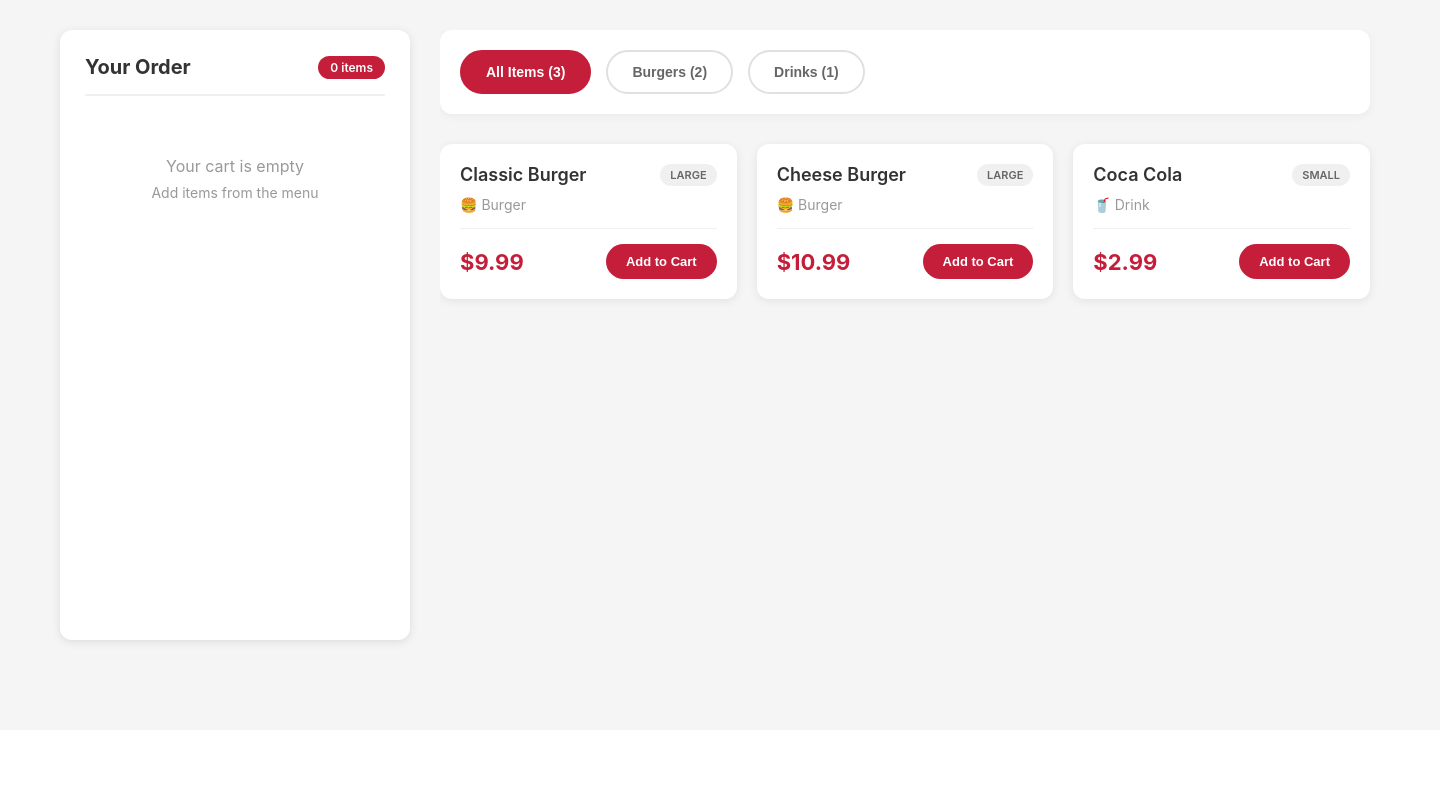
Test case: Integration: Complete Order Flow › should complete full order flow from menu to checkout
Expected: the heading "Classic Burger" is shown, 460,164 -> 586,185
Expected: the heading "Cheese Burger" is shown, 777,164 -> 906,185
Click the button with class "menu-item-add-btn" next to "9.99" at (661, 262), box 606,244 -> 717,279
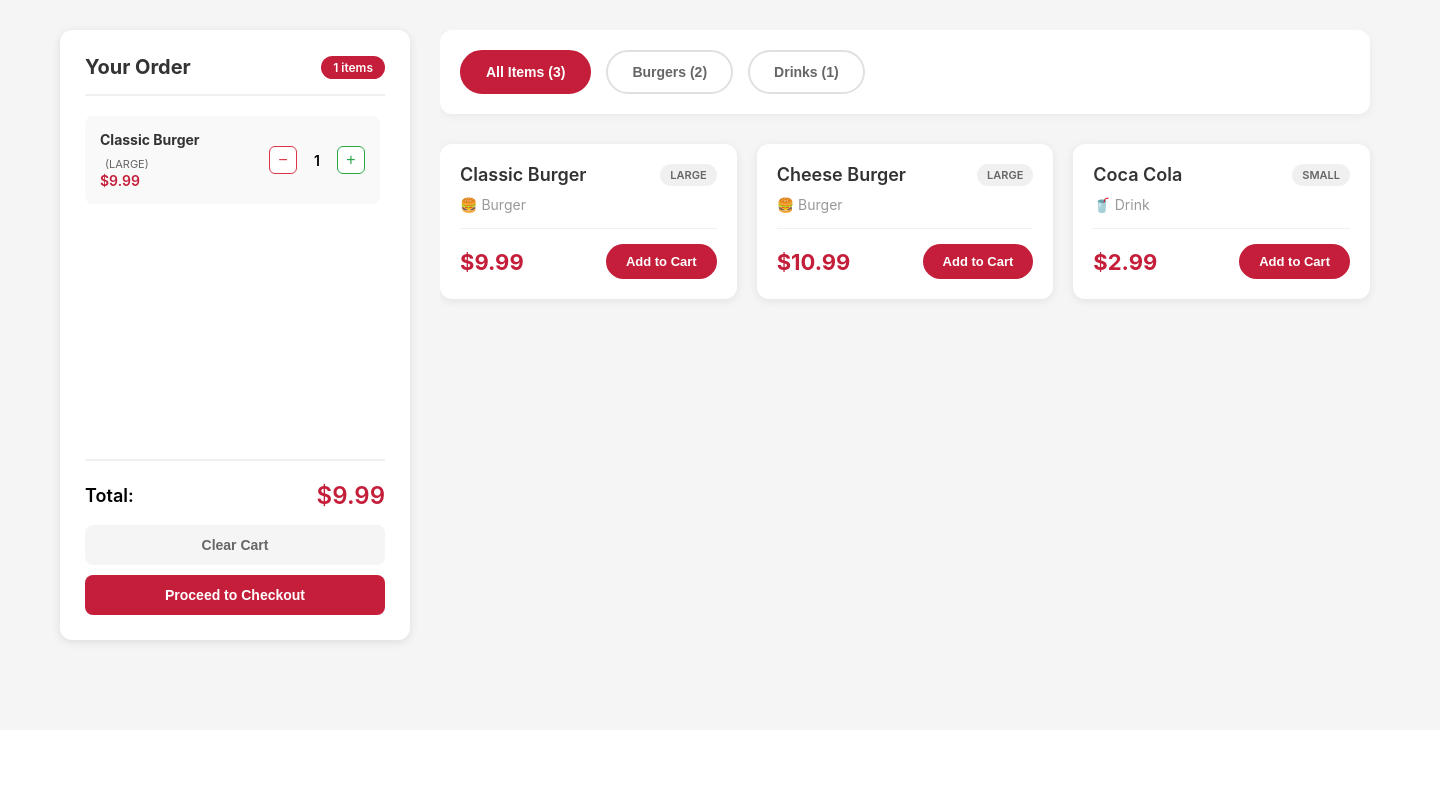
Result: the text "1 items" is shown at 321,56 -> 385,78
Click the 1st button with class "menu-item-add-btn" at (661, 262), box 606,244 -> 717,279
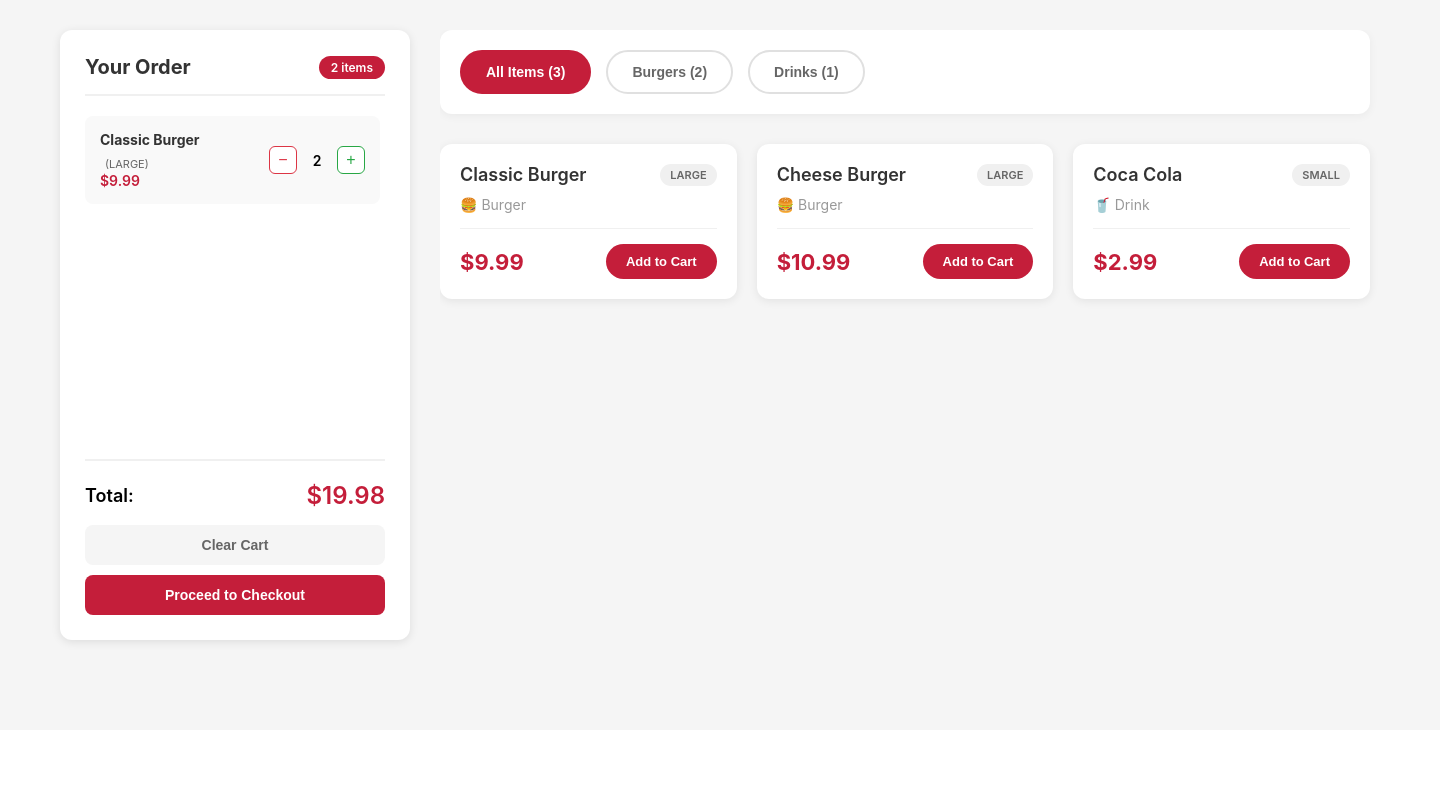
Result: the text "2 items" is shown at 319,56 -> 385,78
Click the button with class "menu-item-add-btn" next to "2.99" at (1295, 262), box 1239,244 -> 1350,279
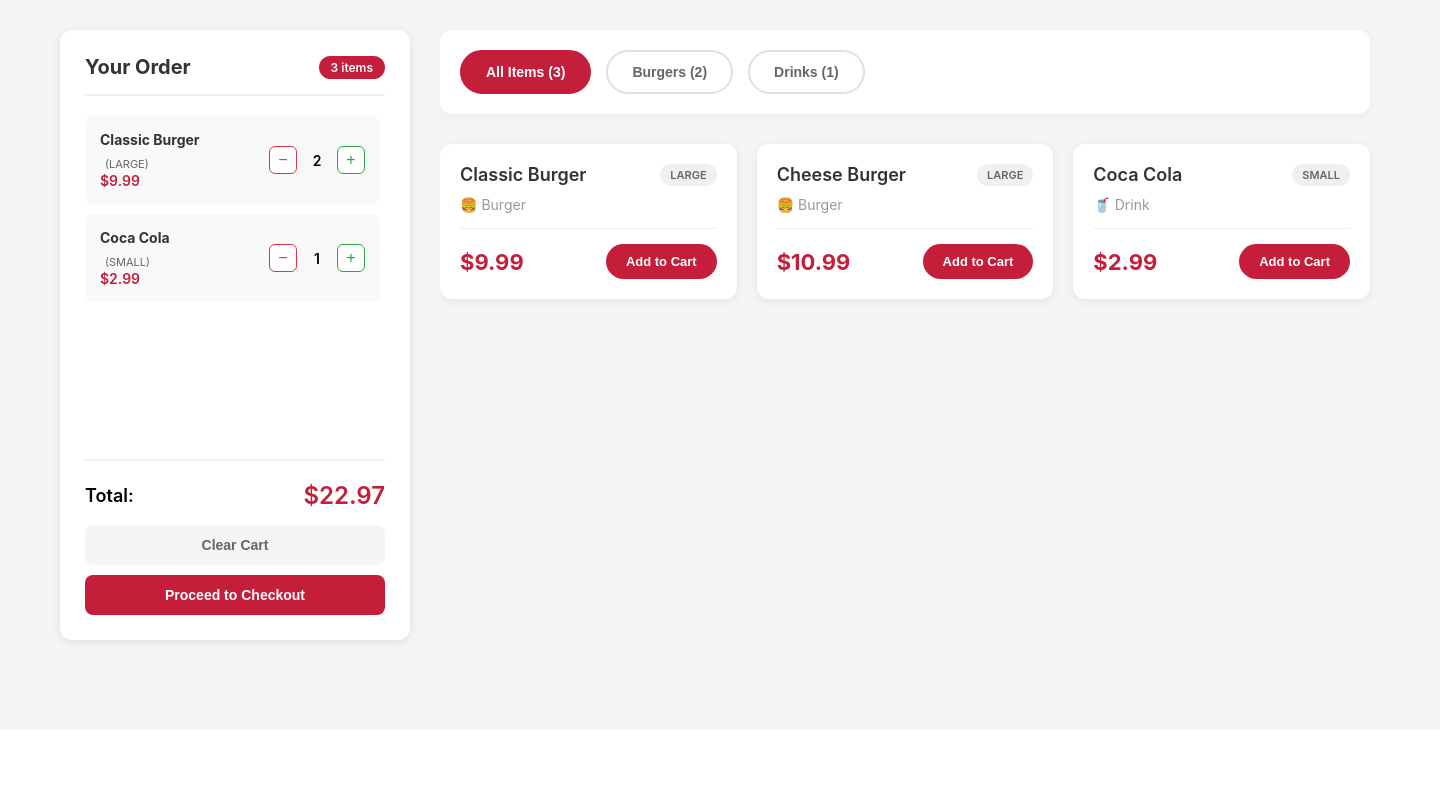
Result: the text "3 items" is shown at 319,56 -> 385,78
Result: the text "$22.97" is shown at 303,481 -> 385,510
Click the 1st button with class "cart-btn-minus" at (283, 160), box 269,146 -> 297,174
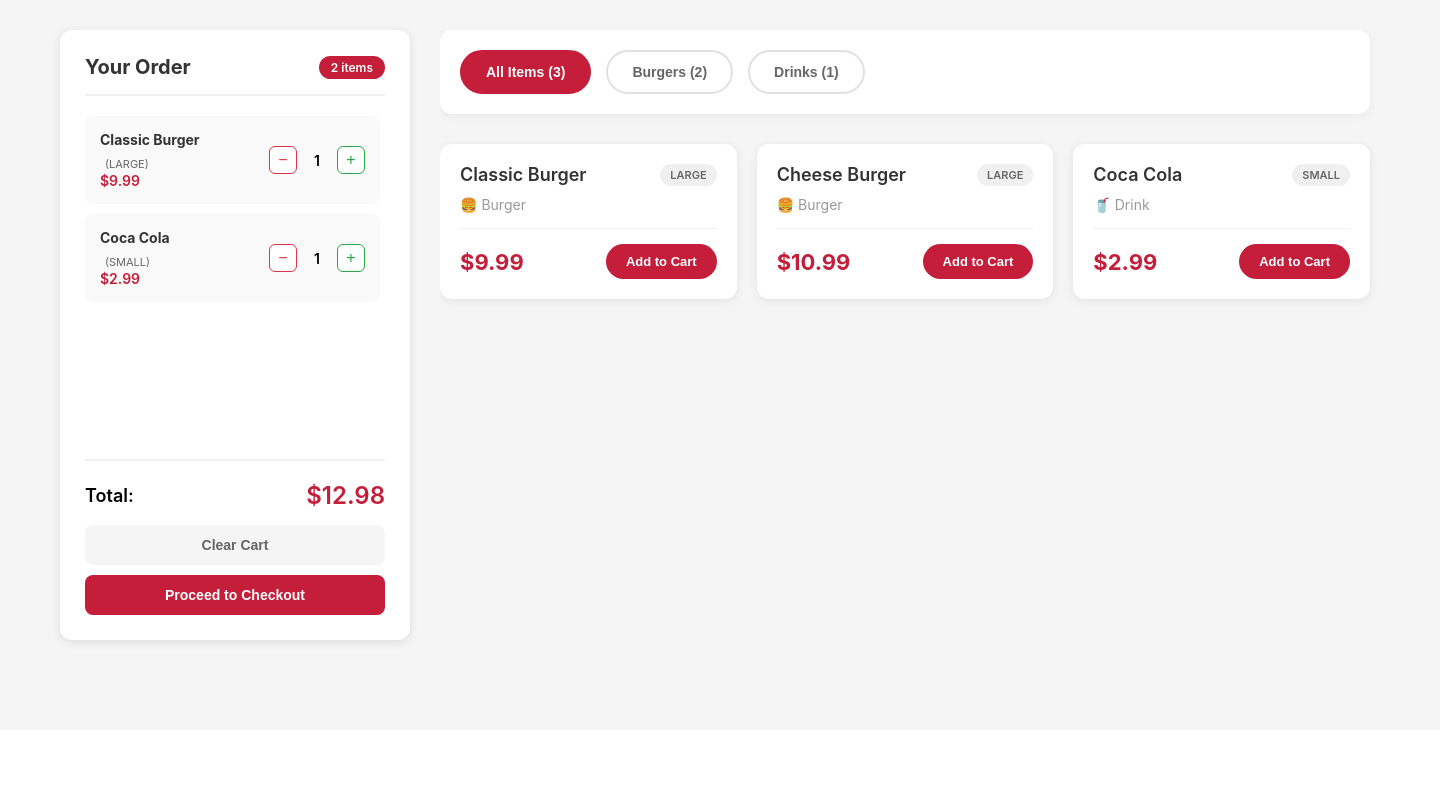
Result: the text "2 items" is shown at 319,56 -> 385,78
Test cart clearing
Click the button "Clear Cart" at (235, 545), box 85,525 -> 385,565
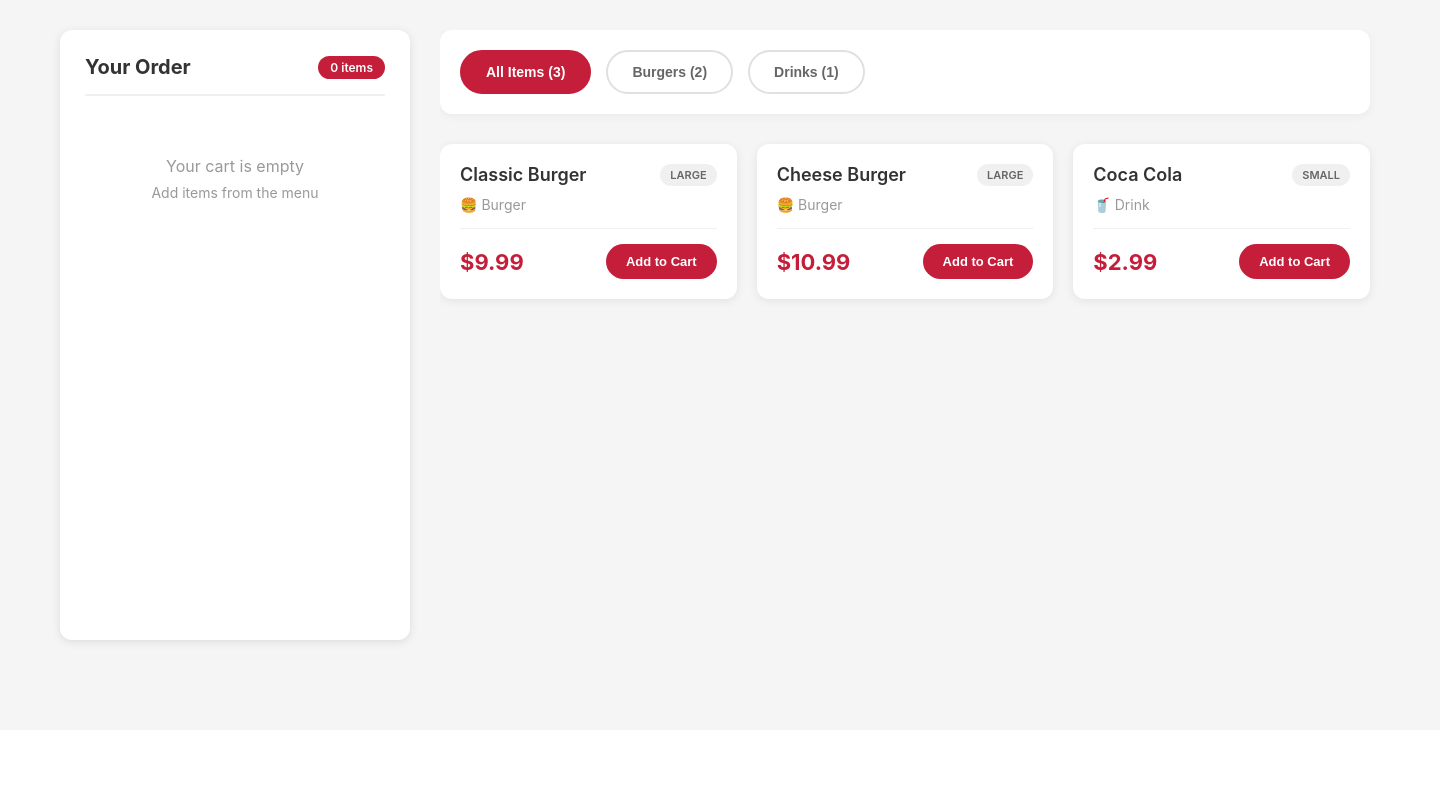
Result: the text "Your cart is empty" is shown at 166,156 -> 304,176
